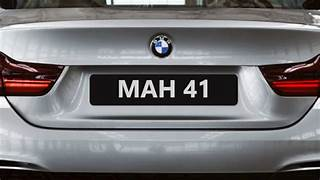number_plate: (91, 73, 239, 105)
